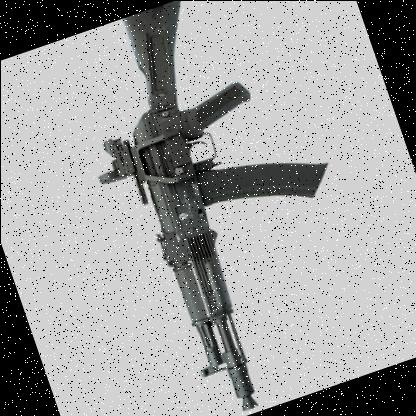rifle: (32, 0, 381, 416)
